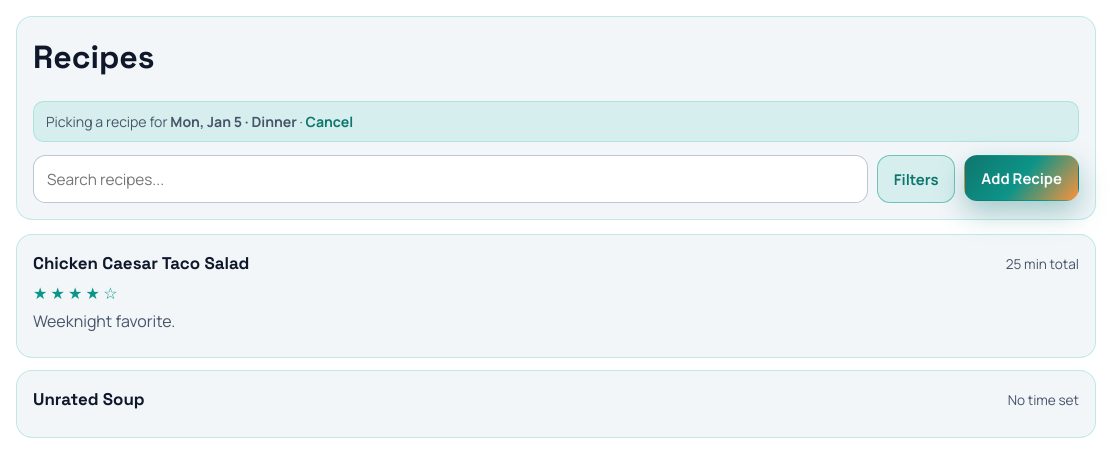
Test: RecipesPage › clears the meal slot banner without leaving the search page when Cancel is clicked
Check: the heading "Chicken Caesar Taco Salad" is shown, box x1=33 y1=251 x2=249 y2=276
Click the button "Cancel". click: (329, 122)
box: x1=306 y1=111 x2=353 y2=132
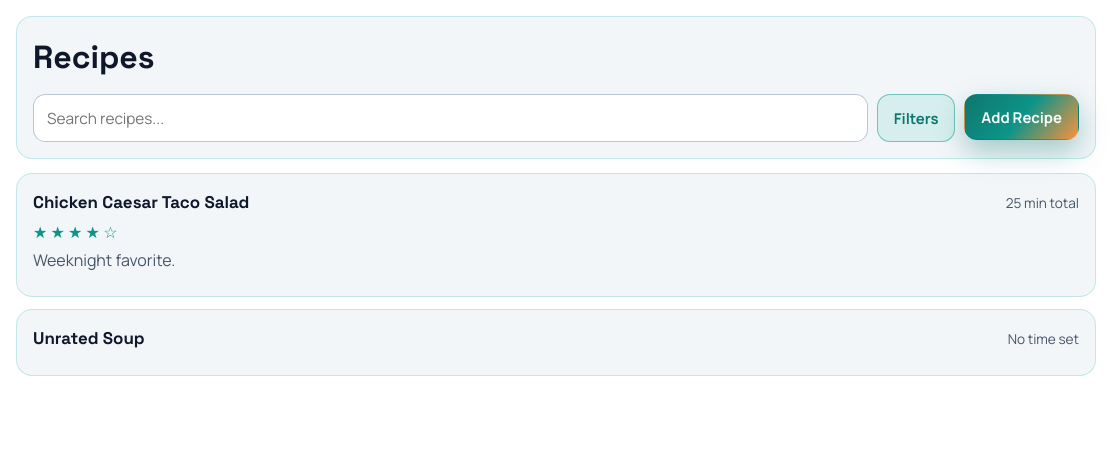
Check: the heading "Chicken Caesar Taco Salad" is shown, box x1=33 y1=190 x2=249 y2=215
Check: the text "Picking a recipe for" is gone
